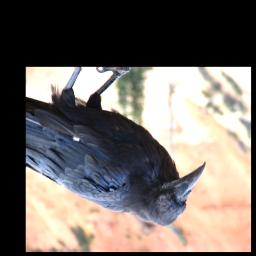Crow: (27, 68, 207, 232)
